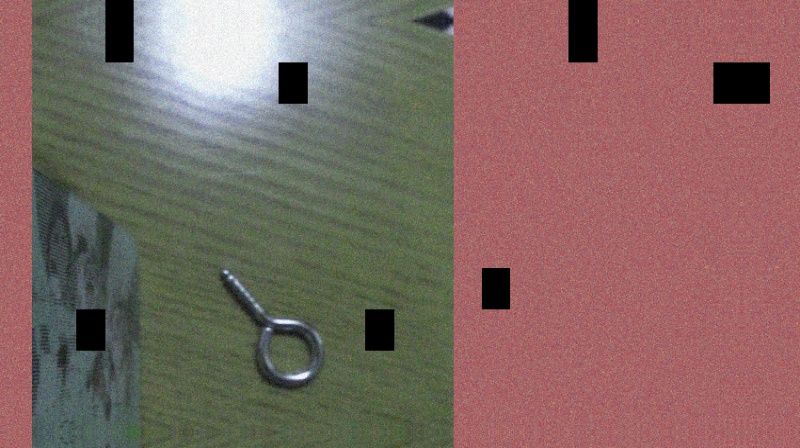O001: (214, 265, 327, 393)
